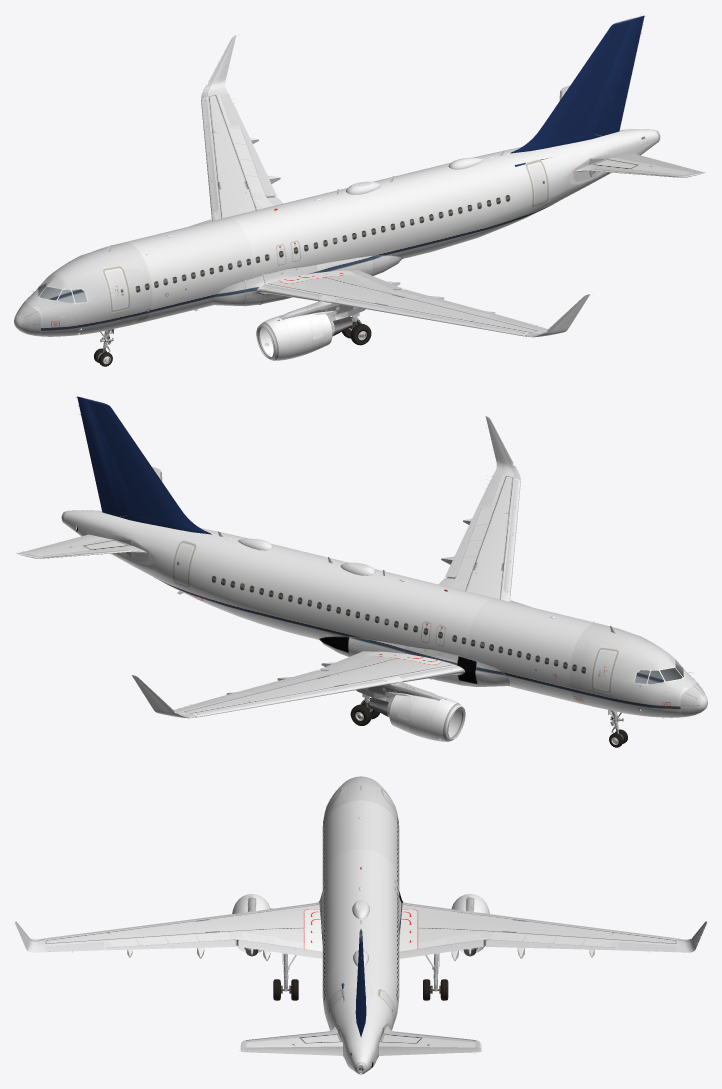
Rendered from exterior.glb.
3 renders of one model, top to bottom at view 1: azimuth 30°, elevation 25°; view 2: azimuth 150°, elevation 25°; view 3: azimuth 270°, elevation 25°, orthographic. The views are drawn at different scales.
Parts seen in each view (by area): view 1: body, Rudder, Hstabs, SlatL2, SlatR2, FlapR2; view 2: body, Rudder, Hstabs, SlatR2, SlatL2, FlapL2; view 3: body, Hstabs, ElevatorR, ElevatorL, FlapL2, FlapR2, FlapL1, FlapR1, Rudder.
Part boxes in pixels (x1,y1,x2,y2): body: (14, 18, 660, 360); Rudder: (594, 14, 647, 135); Hstabs: (559, 85, 698, 177); SlatL2: (332, 298, 525, 335); SlatR2: (201, 99, 218, 214); FlapR2: (240, 125, 276, 197); body: (61, 399, 707, 741); Rudder: (75, 395, 127, 516); Hstabs: (23, 467, 162, 558); SlatR2: (196, 679, 389, 716); SlatL2: (503, 480, 520, 594); FlapL2: (445, 506, 481, 578); body: (15, 776, 706, 1074); Hstabs: (240, 1026, 481, 1048); ElevatorR: (379, 1046, 481, 1055); ElevatorL: (239, 1046, 342, 1055); FlapL2: (105, 939, 237, 950); FlapR2: (484, 939, 616, 950); FlapL1: (237, 940, 322, 958); FlapR1: (399, 940, 484, 958); Rudder: (356, 937, 365, 1037).
Size of the model in its own units: 37.61 by 12.24 by 35.84.
Materials: 12 (6 with a texture image).
